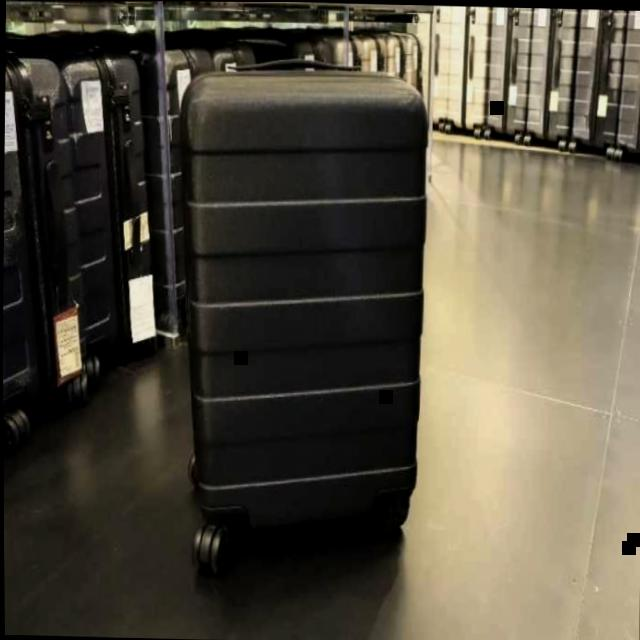luggage: (168, 55, 432, 545)
